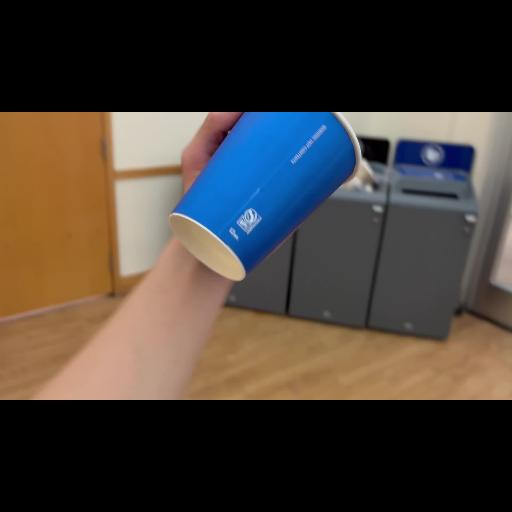lp_paper_cup: (167, 112, 363, 284)
